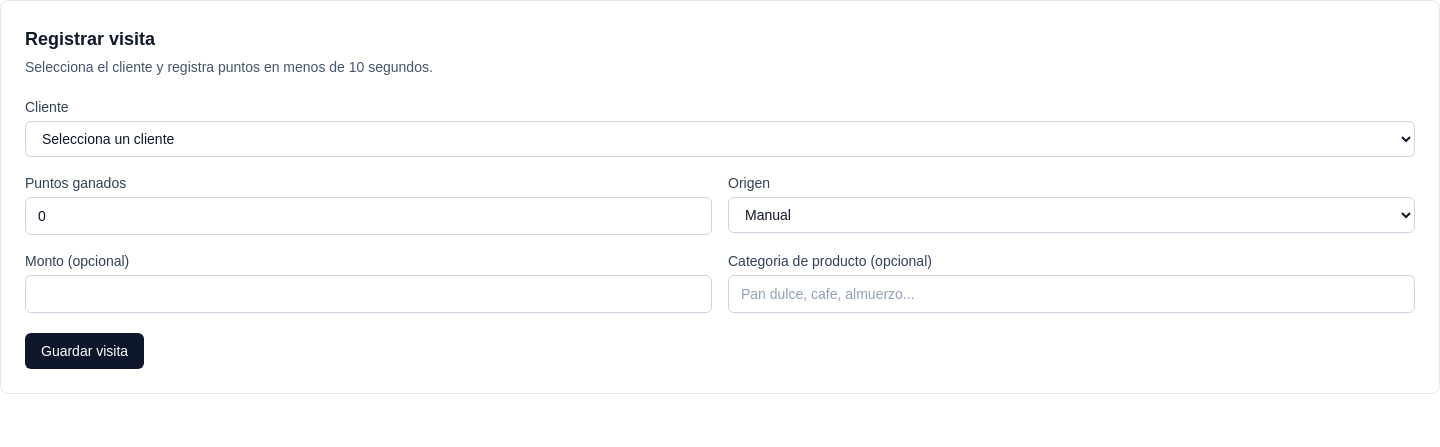
Test: VisitForm integration › form submission › displays error message after failed submission
Select "Juan Perez - 555-0001" in the dropdown labelled "Cliente": [720, 139] box [25, 121, 1415, 157]
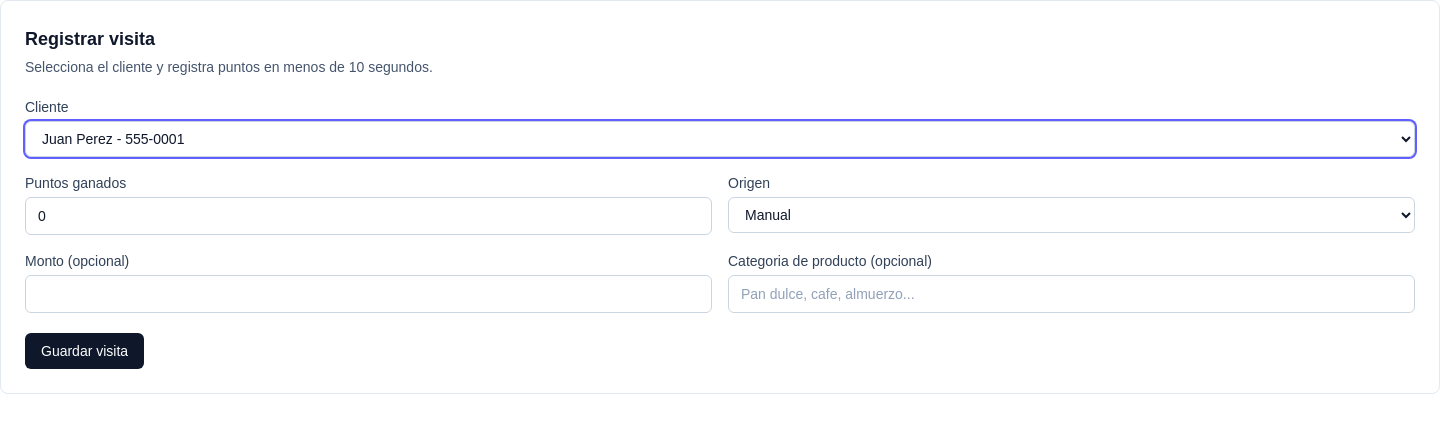
Click the button "Guardar visita": [85, 351] box [25, 333, 144, 369]
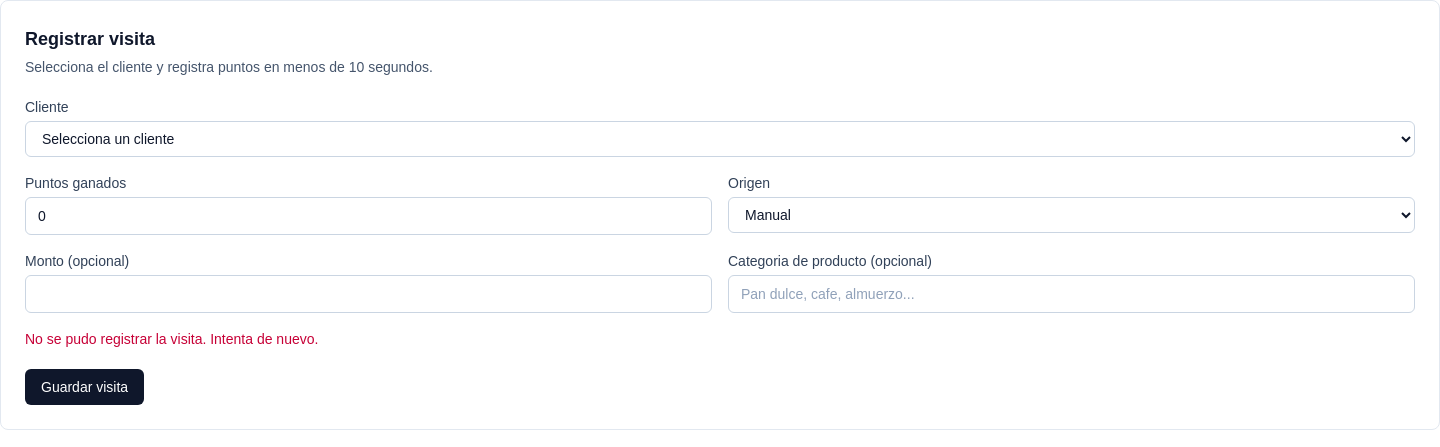
Now the text "No se pudo registrar la visita. Intenta de nuevo." is shown, box [25, 331, 318, 347]
